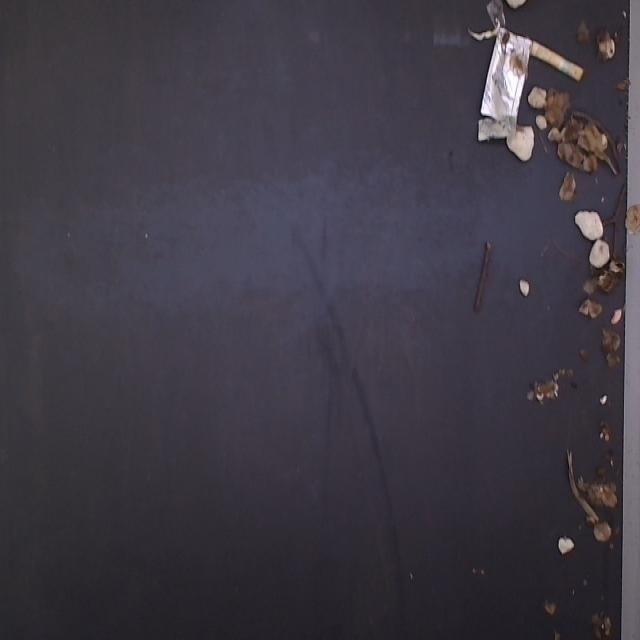food_wrapping: (475, 13, 525, 154)
